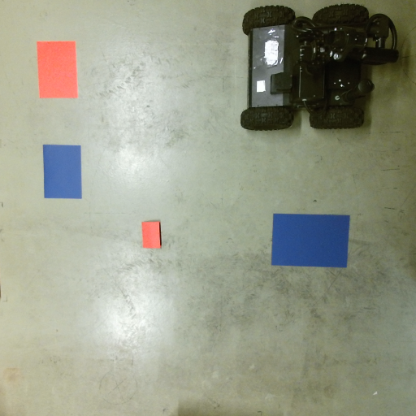Blue: (271, 212, 350, 267), (41, 144, 83, 201)
Jaguar: (241, 3, 400, 131)
Red: (35, 40, 79, 101), (141, 219, 162, 250)
